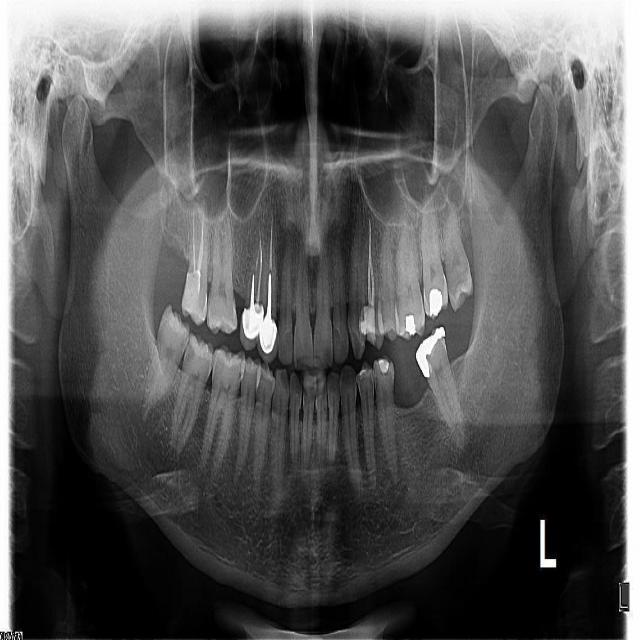71: (260, 271, 278, 350), (249, 272, 261, 327)
74: (367, 219, 376, 306), (197, 222, 207, 271), (257, 228, 263, 301), (192, 213, 196, 270), (269, 215, 272, 272), (255, 246, 260, 266)
NucleOSS Implant: (410, 321, 448, 379), (429, 286, 443, 318), (404, 315, 417, 336)
Sterngold Implant: (181, 336, 198, 373), (444, 267, 461, 298), (178, 332, 188, 352), (373, 376, 380, 392), (370, 374, 374, 391)
Straumann Implant: (178, 272, 203, 324), (359, 304, 378, 344), (378, 357, 392, 376)
Zimmer Implant: (250, 314, 284, 361), (234, 301, 264, 352)
